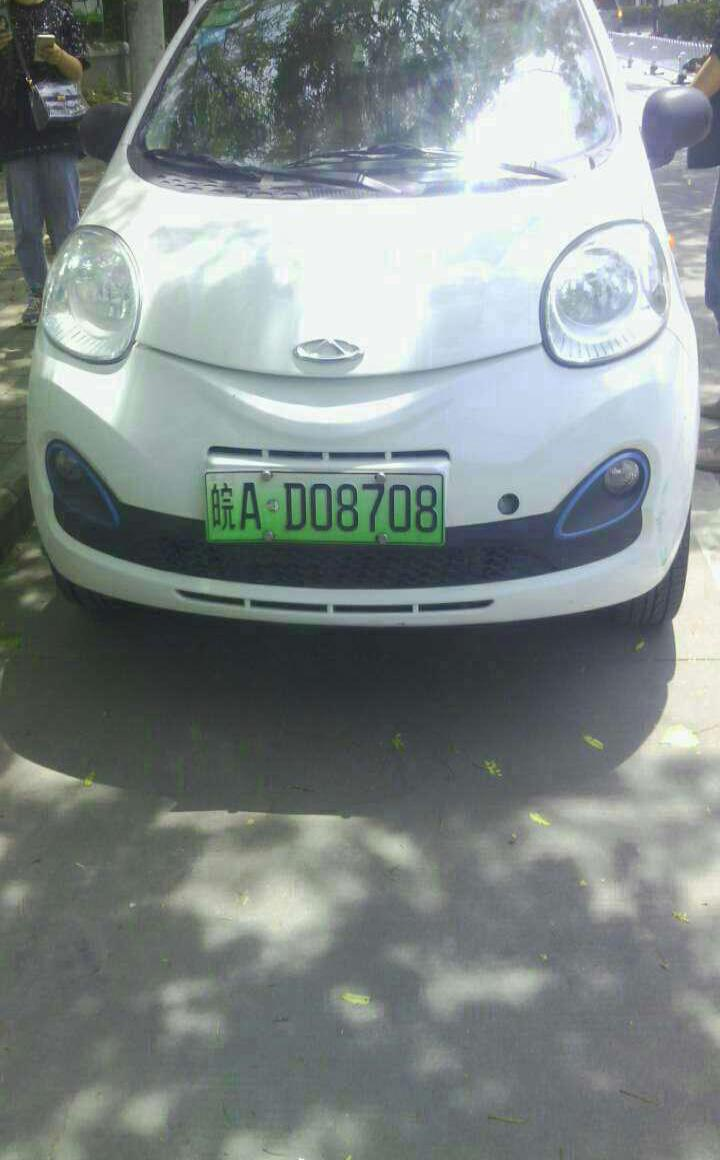car_green: (207, 463, 447, 550)
